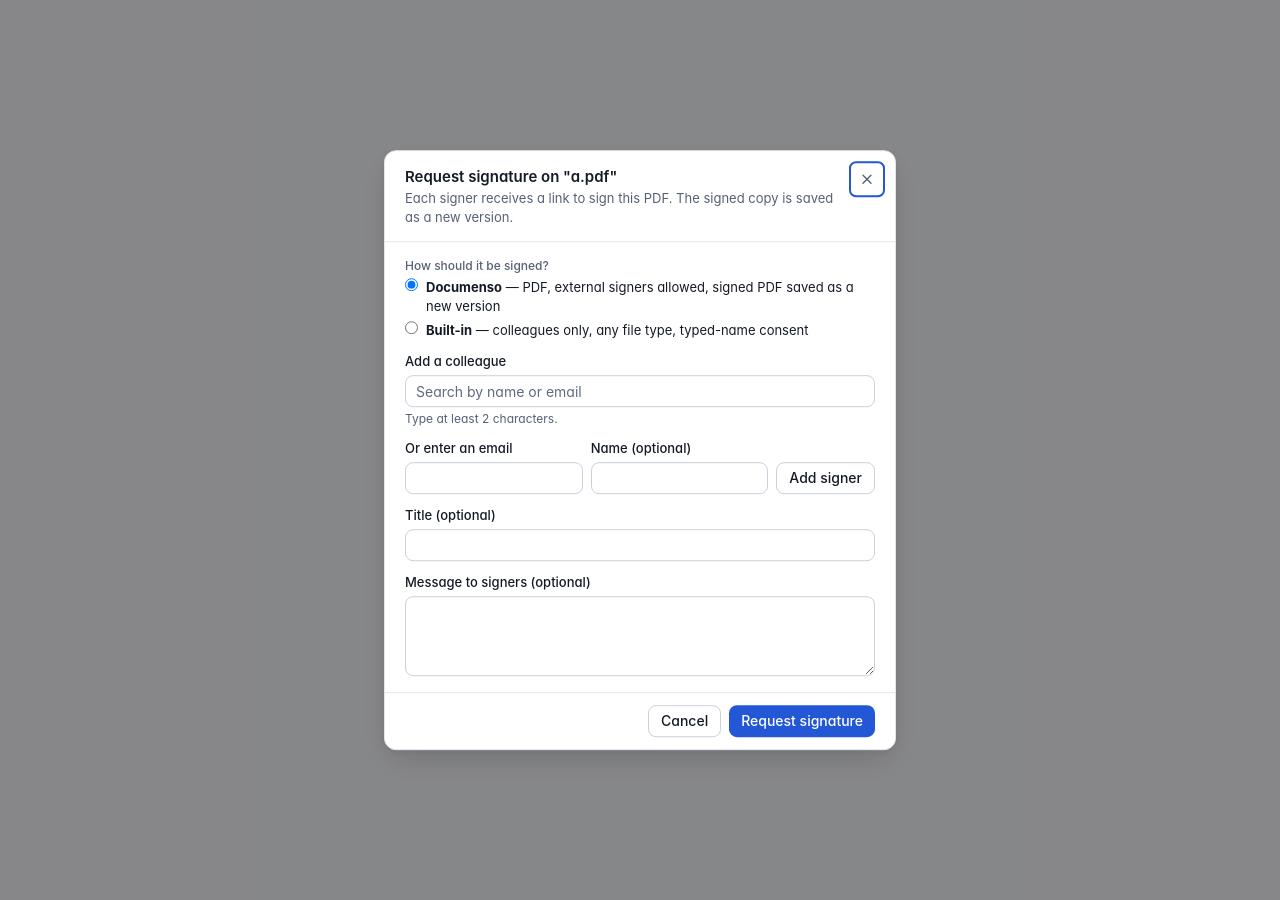
request dialog with signature placement › built-in signing has no placement step and sends without a box
The image size is (1280, 900).
Click the radio button labelled "Built-in" at [412, 328], box [405,322,418,335]
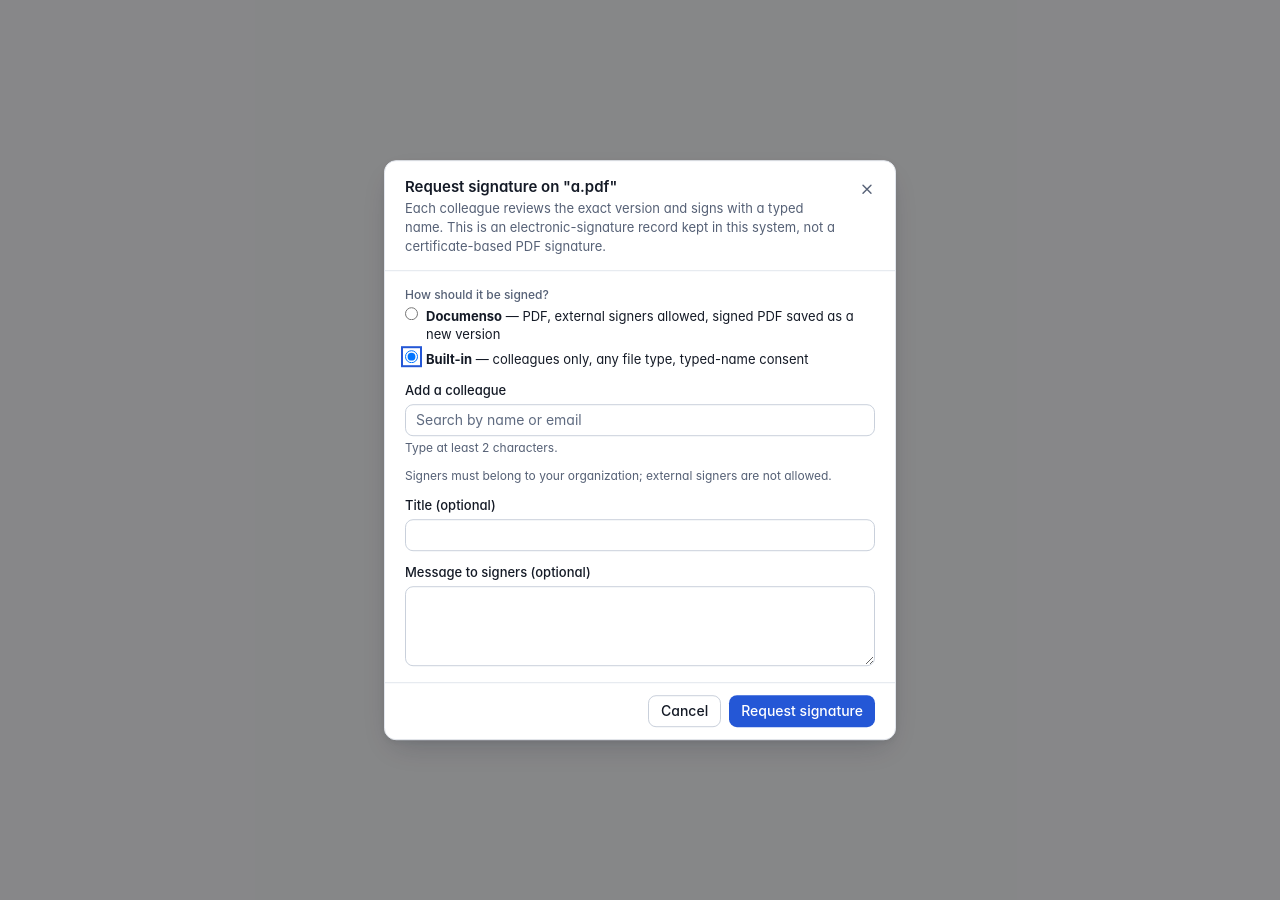
Click the button "Request signature" at [802, 711], box [729,695,875,727]
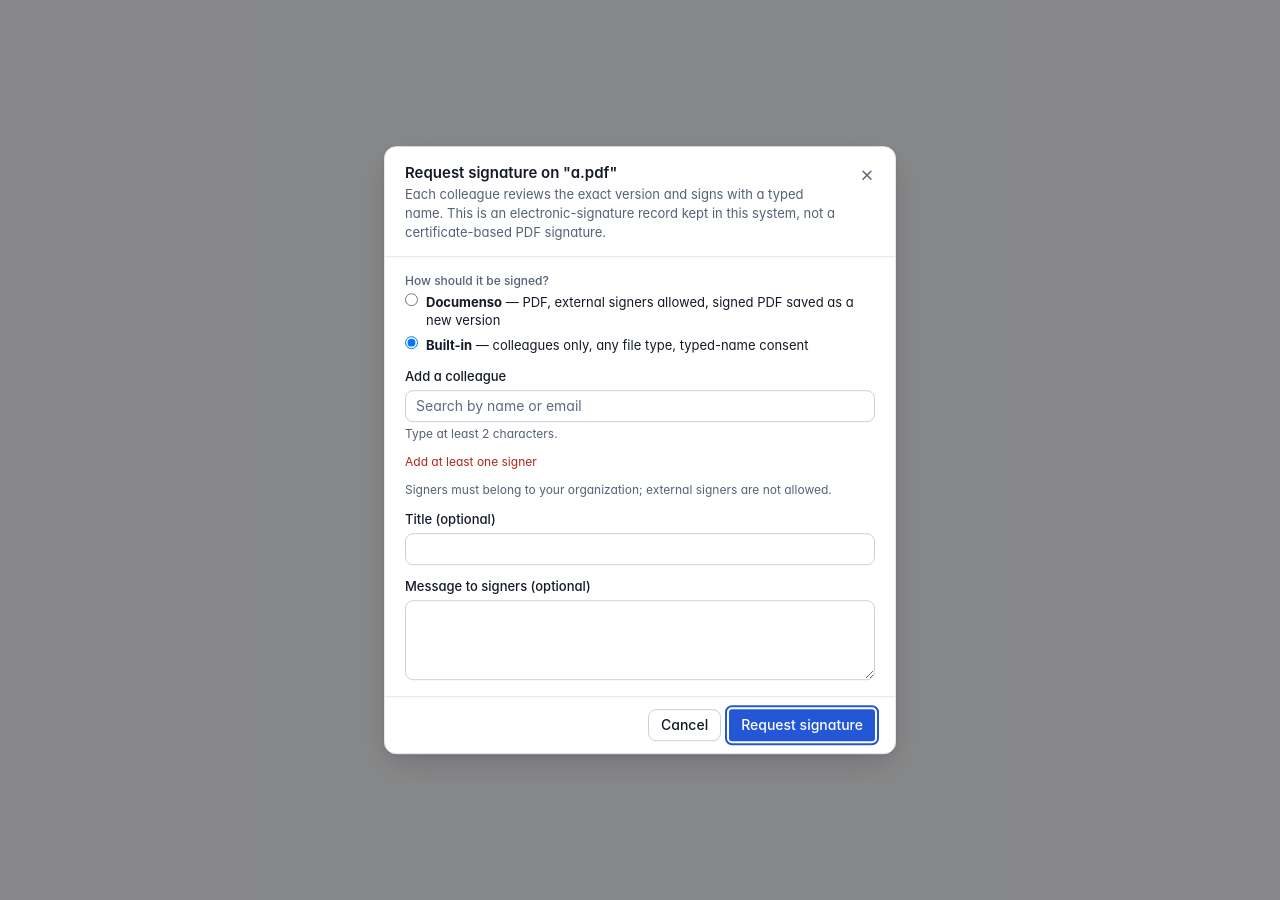
Check: the text "Add at least one signer" is shown, box [405,454,537,469]
